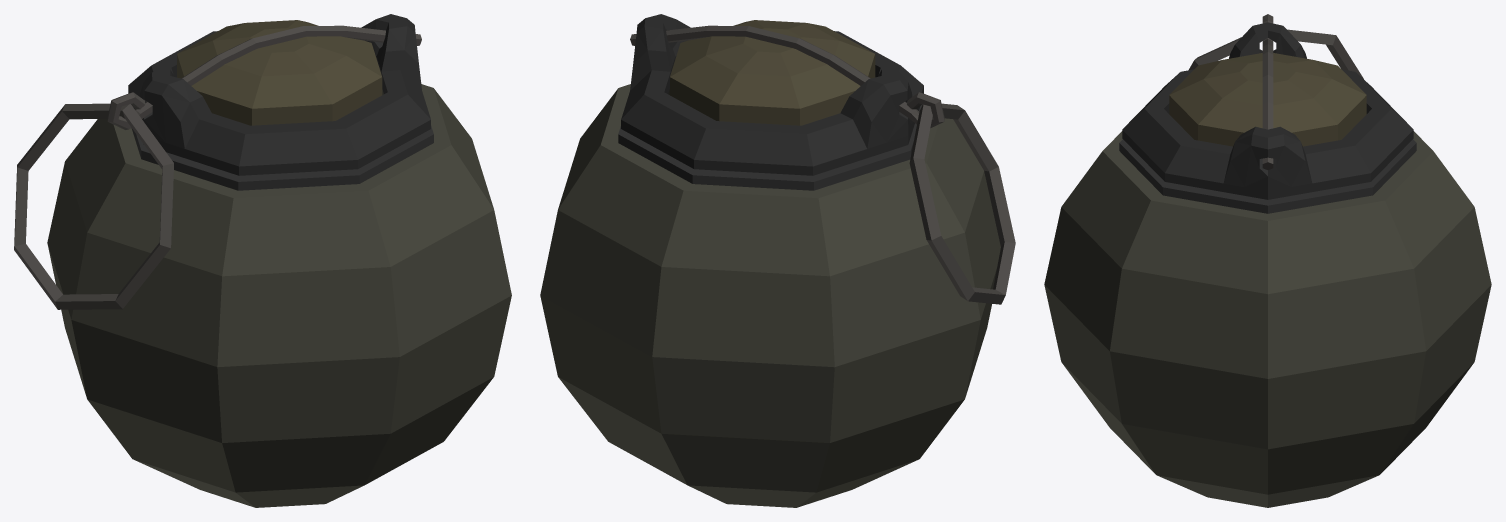
The model's file is T13_ImpactGrenade.fbx.
The picture shows the model from 3 angles, left to right: view 1: azimuth 30°, elevation 25°; view 2: azimuth 150°, elevation 25°; view 3: azimuth 270°, elevation 25°; orthographic projection. The views are drawn at different scales.
Visible parts, largest first — view 1: T13_Body, T13_Pin; view 2: T13_Body, T13_Pin; view 3: T13_Body, T13_Pin.
Part boxes in pixels (x1,y1,x2,y2): T13_Body: [47, 14, 511, 507]; T13_Pin: [14, 25, 421, 309]; T13_Body: [540, 14, 1000, 507]; T13_Pin: [630, 25, 1015, 304]; T13_Body: [1044, 22, 1491, 507]; T13_Pin: [1189, 14, 1363, 169].
Size of the model in its own units: 0.069 by 0.0679 by 0.065.
Materials: 1 (1 with a texture image).
